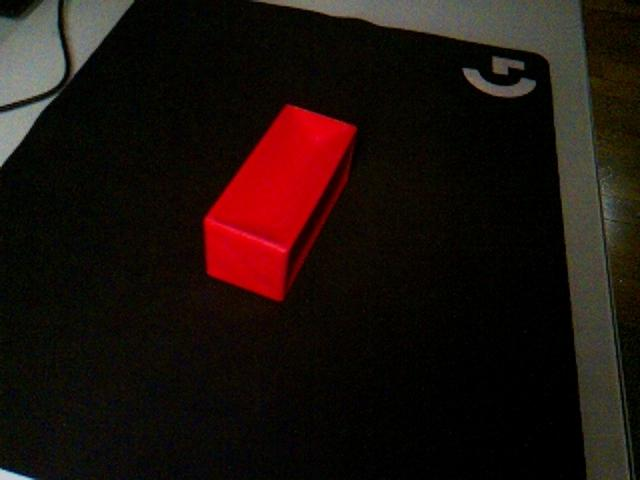red: (202, 102, 358, 303)
